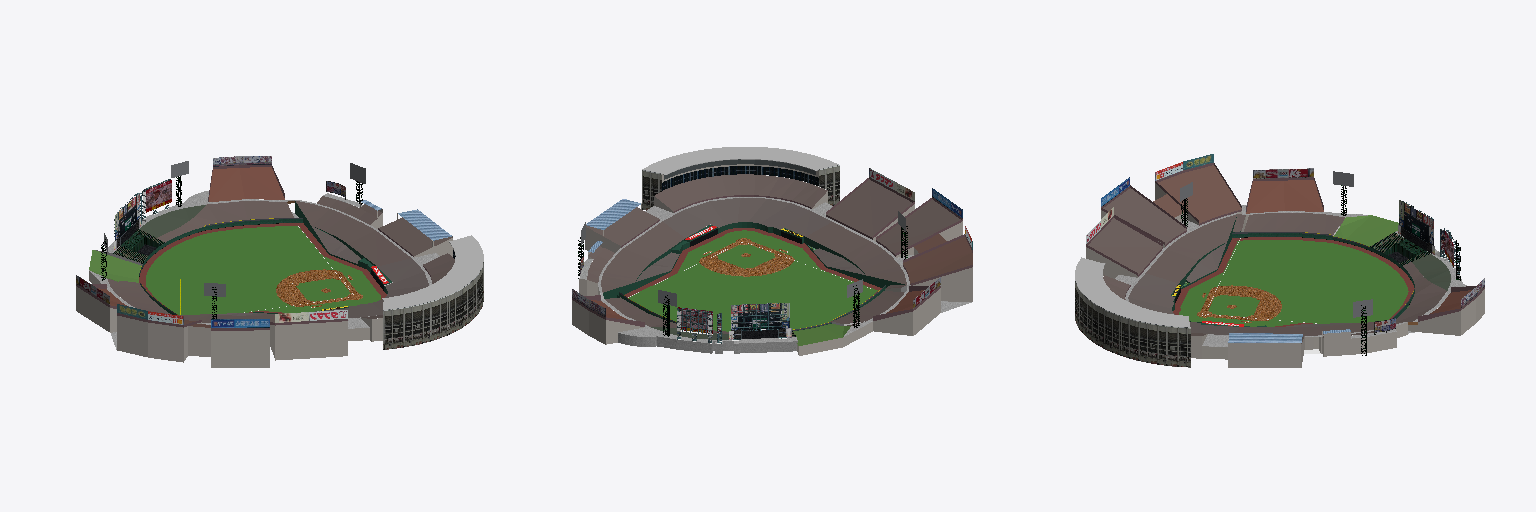
The picture shows the model from 3 angles: view 1: azimuth 30°, elevation 25°; view 2: azimuth 150°, elevation 25°; view 3: azimuth 270°, elevation 25°; orthographic projection.
Parts seen in each view (by area): view 1: Kleenex_Stadium_Miyagi_Main-Material11, Kleenex_Stadium_Miyagi_Main-contex, Kleenex_Stadium_Miyagi_Main-seating_attendance3_red, Kleenex_Stadium_Miyagi_Main-vetoutside4, Kleenex_Stadium_Miyagi_Main-seating_attendance4_red, Kleenex_Stadium_Miyagi_Main-Metal_Corrugated_Shiny, Kleenex_Stadium_Miyagi_Main-seating_attendance1_red, Kleenex_Stadium_Miyagi_Main-Material6, Kleenex_Stadium_Miyagi_Main-Groundcover_Sand_Smooth1, Kleenex_Stadium_Miyagi_Main-Concrete_Stamped_Ashlar, Kleenex_Stadium_Miyagi_Main-cashman_brick, Kleenex_Stadium_Miyagi_Main-Vegetation_Grass_Artificial (+7 smaller); view 2: Kleenex_Stadium_Miyagi_Main-seating_attendance3_red, Kleenex_Stadium_Miyagi_Main-Material11, Kleenex_Stadium_Miyagi_Main-contex, Kleenex_Stadium_Miyagi_Main-seating_attendance4_red, Kleenex_Stadium_Miyagi_Main-Material6, Kleenex_Stadium_Miyagi_Main-Metal_Corrugated_Shiny, Kleenex_Stadium_Miyagi_Main-cashman_brick, Kleenex_Stadium_Miyagi_Main-seating_attendance2_red, Kleenex_Stadium_Miyagi_Main-Material10, Kleenex_Stadium_Miyagi_Main-Groundcover_Sand_Smooth1, Kleenex_Stadium_Miyagi_Main-black_windows, Kleenex_Stadium_Miyagi_Main-vetoutside4 (+5 smaller); view 3: Kleenex_Stadium_Miyagi_Main-Material11, Kleenex_Stadium_Miyagi_Main-seating_attendance3_red, Kleenex_Stadium_Miyagi_Main-contex, Kleenex_Stadium_Miyagi_Main-vetoutside4, Kleenex_Stadium_Miyagi_Main-seating_attendance2_red, Kleenex_Stadium_Miyagi_Main-seating_attendance1_red, Kleenex_Stadium_Miyagi_Main-seating_attendance4_red, Kleenex_Stadium_Miyagi_Main-Metal_Corrugated_Shiny, Kleenex_Stadium_Miyagi_Main-Material6, Kleenex_Stadium_Miyagi_Main-cashman_brick, Kleenex_Stadium_Miyagi_Main-Groundcover_Sand_Smooth1, Kleenex_Stadium_Miyagi_Main-Concrete_Stamped_Ashlar (+5 smaller).
Part boxes in pixels (left/top/right/bottom): Kleenex_Stadium_Miyagi_Main-Material11: left=146, top=226, right=380, bottom=314; Kleenex_Stadium_Miyagi_Main-contex: left=76, top=202, right=453, bottom=367; Kleenex_Stadium_Miyagi_Main-seating_attendance3_red: left=108, top=196, right=454, bottom=322; Kleenex_Stadium_Miyagi_Main-vetoutside4: left=383, top=262, right=483, bottom=349; Kleenex_Stadium_Miyagi_Main-seating_attendance4_red: left=217, top=226, right=428, bottom=317; Kleenex_Stadium_Miyagi_Main-Metal_Corrugated_Shiny: left=382, top=235, right=483, bottom=309; Kleenex_Stadium_Miyagi_Main-seating_attendance1_red: left=98, top=167, right=284, bottom=306; Kleenex_Stadium_Miyagi_Main-Material6: left=89, top=191, right=439, bottom=349; Kleenex_Stadium_Miyagi_Main-Groundcover_Sand_Smooth1: left=276, top=269, right=362, bottom=307; Kleenex_Stadium_Miyagi_Main-Concrete_Stamped_Ashlar: left=139, top=223, right=386, bottom=313; Kleenex_Stadium_Miyagi_Main-cashman_brick: left=76, top=165, right=431, bottom=330; Kleenex_Stadium_Miyagi_Main-Vegetation_Grass_Artificial: left=89, top=250, right=140, bottom=282; Kleenex_Stadium_Miyagi_Main-seating_attendance3_red: left=586, top=174, right=960, bottom=333; Kleenex_Stadium_Miyagi_Main-Material11: left=629, top=230, right=877, bottom=331; Kleenex_Stadium_Miyagi_Main-contex: left=572, top=164, right=972, bottom=355; Kleenex_Stadium_Miyagi_Main-seating_attendance4_red: left=636, top=198, right=864, bottom=281; Kleenex_Stadium_Miyagi_Main-Material6: left=579, top=197, right=971, bottom=353; Kleenex_Stadium_Miyagi_Main-Metal_Corrugated_Shiny: left=642, top=147, right=838, bottom=174; Kleenex_Stadium_Miyagi_Main-cashman_brick: left=572, top=177, right=972, bottom=326; Kleenex_Stadium_Miyagi_Main-seating_attendance2_red: left=903, top=234, right=972, bottom=283; Kleenex_Stadium_Miyagi_Main-Material10: left=603, top=222, right=904, bottom=298; Kleenex_Stadium_Miyagi_Main-Groundcover_Sand_Smooth1: left=699, top=238, right=794, bottom=276; Kleenex_Stadium_Miyagi_Main-black_windows: left=662, top=166, right=818, bottom=190; Kleenex_Stadium_Miyagi_Main-vetoutside4: left=642, top=165, right=839, bottom=210; Kleenex_Stadium_Miyagi_Main-Material11: left=1179, top=240, right=1408, bottom=326; Kleenex_Stadium_Miyagi_Main-seating_attendance3_red: left=1088, top=188, right=1446, bottom=343; Kleenex_Stadium_Miyagi_Main-contex: left=1086, top=183, right=1484, bottom=367; Kleenex_Stadium_Miyagi_Main-vetoutside4: left=1075, top=281, right=1190, bottom=367; Kleenex_Stadium_Miyagi_Main-seating_attendance2_red: left=1153, top=165, right=1241, bottom=223; Kleenex_Stadium_Miyagi_Main-seating_attendance1_red: left=1246, top=180, right=1471, bottom=313; Kleenex_Stadium_Miyagi_Main-seating_attendance4_red: left=1128, top=243, right=1351, bottom=334; Kleenex_Stadium_Miyagi_Main-Metal_Corrugated_Shiny: left=1075, top=257, right=1190, bottom=327; Kleenex_Stadium_Miyagi_Main-Material6: left=1115, top=205, right=1466, bottom=346; Kleenex_Stadium_Miyagi_Main-cashman_brick: left=1086, top=163, right=1484, bottom=321; Kleenex_Stadium_Miyagi_Main-Groundcover_Sand_Smooth1: left=1197, top=285, right=1281, bottom=322; Kleenex_Stadium_Miyagi_Main-Concrete_Stamped_Ashlar: left=1173, top=237, right=1414, bottom=326.
Size of the model in its own units: 220 by 34.32 by 227.
Materials: 66 (44 with a texture image).